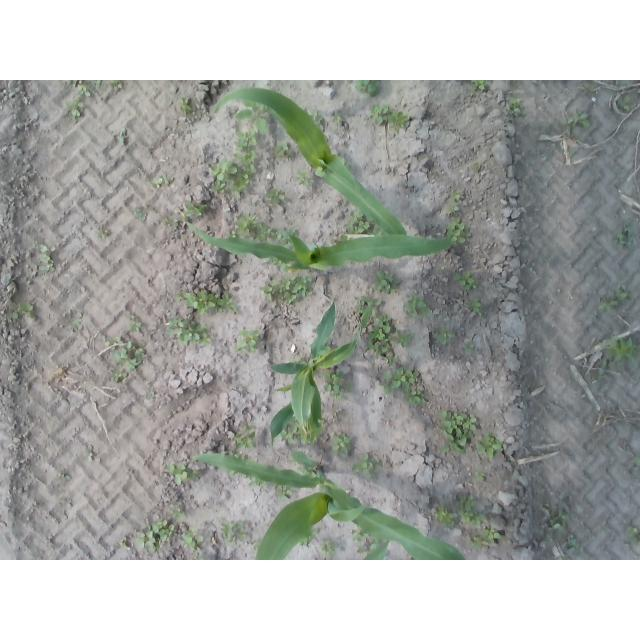Maize: (192, 449, 467, 560), (216, 88, 409, 237), (268, 298, 372, 458), (170, 211, 454, 269)
Weeds: (440, 413, 479, 456), (387, 369, 426, 404), (263, 277, 314, 303), (235, 132, 258, 189), (368, 318, 397, 362), (170, 314, 209, 346), (108, 339, 144, 366), (183, 289, 216, 313), (374, 106, 407, 130), (238, 104, 266, 132), (221, 523, 247, 548), (609, 339, 636, 362), (153, 517, 175, 544), (378, 270, 400, 295), (475, 436, 501, 457), (237, 329, 260, 352), (168, 465, 192, 487), (211, 161, 238, 180), (182, 531, 204, 554), (136, 530, 159, 551), (404, 295, 425, 317), (236, 425, 257, 447), (437, 506, 460, 526), (63, 99, 83, 121), (352, 456, 374, 476), (39, 244, 54, 272), (329, 434, 351, 453), (325, 371, 343, 394), (461, 494, 475, 523), (13, 303, 36, 320), (568, 112, 591, 129), (239, 214, 258, 234), (266, 188, 286, 207), (435, 324, 453, 345), (451, 223, 469, 244), (255, 226, 278, 242), (448, 190, 464, 213), (397, 328, 415, 348), (185, 200, 207, 216), (349, 215, 368, 233), (548, 509, 565, 528), (355, 80, 379, 93), (298, 171, 315, 189), (283, 429, 301, 446), (598, 297, 618, 312), (472, 534, 489, 551), (457, 270, 473, 287), (321, 540, 337, 557), (485, 524, 502, 540), (125, 320, 143, 335), (217, 297, 236, 311), (616, 286, 632, 302), (277, 142, 292, 158), (276, 487, 293, 501), (566, 535, 579, 553), (629, 524, 640, 545), (471, 295, 483, 314), (509, 98, 523, 114), (617, 96, 631, 112), (69, 314, 83, 329), (77, 85, 91, 100), (112, 370, 129, 382), (472, 80, 488, 92), (134, 205, 147, 219), (360, 542, 375, 554), (182, 96, 193, 112), (350, 532, 366, 543), (213, 180, 227, 192), (330, 112, 344, 124), (169, 502, 183, 514), (95, 227, 110, 238), (476, 515, 489, 526), (164, 175, 176, 186), (618, 230, 627, 244), (153, 177, 163, 188), (476, 470, 486, 481), (121, 535, 128, 549), (147, 388, 156, 398)
